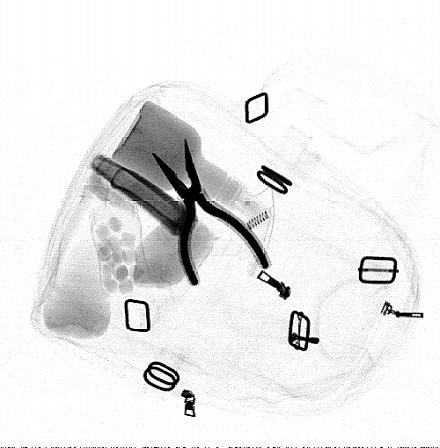Pliers: (151, 137, 270, 287)
